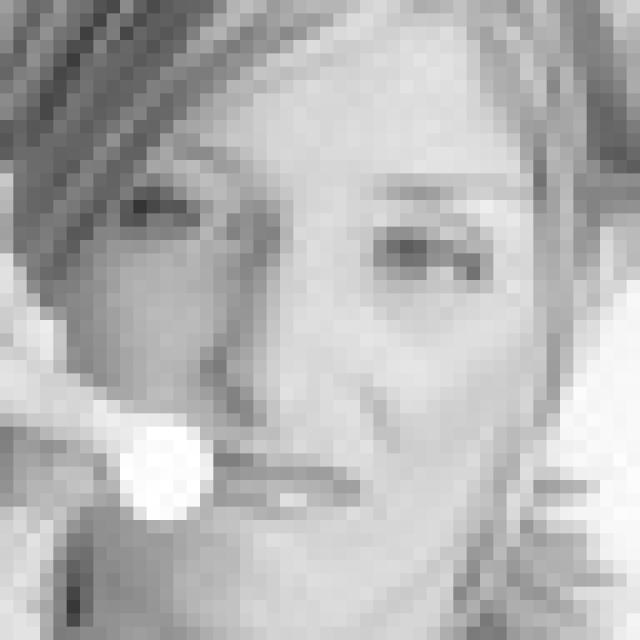disgust: (117, 136, 520, 535)
